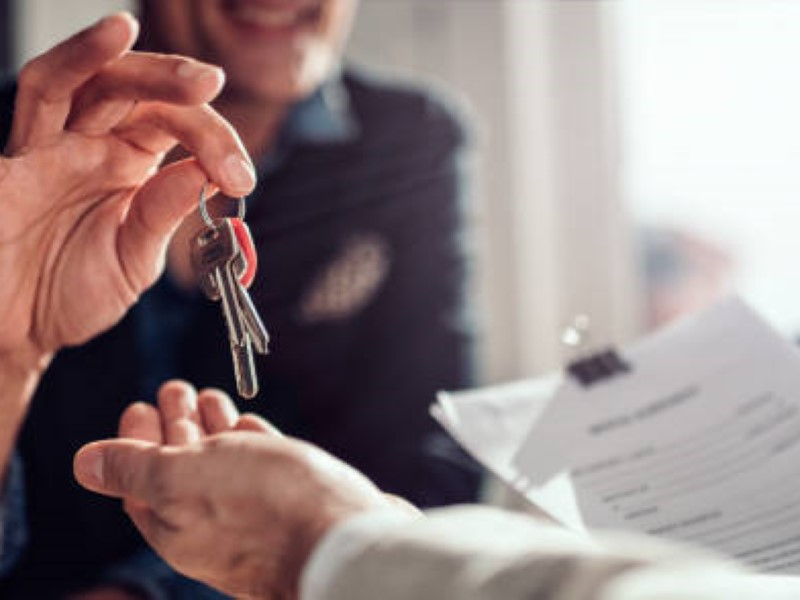key: (188, 221, 279, 399)
